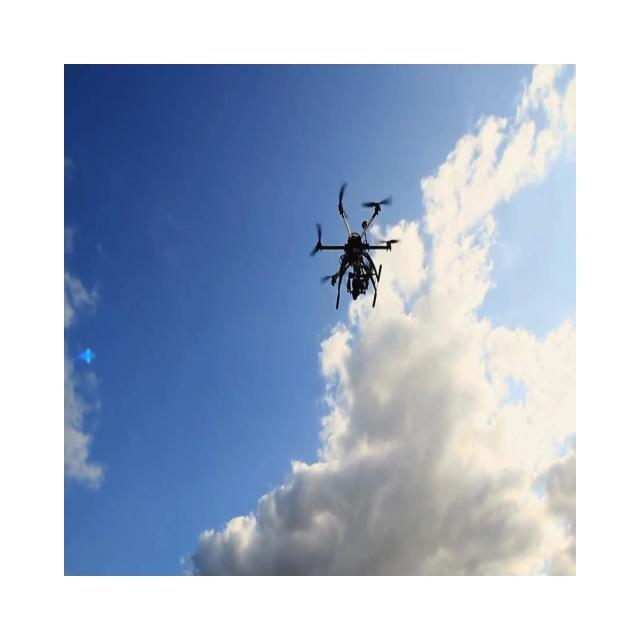drone: (309, 180, 400, 310)
